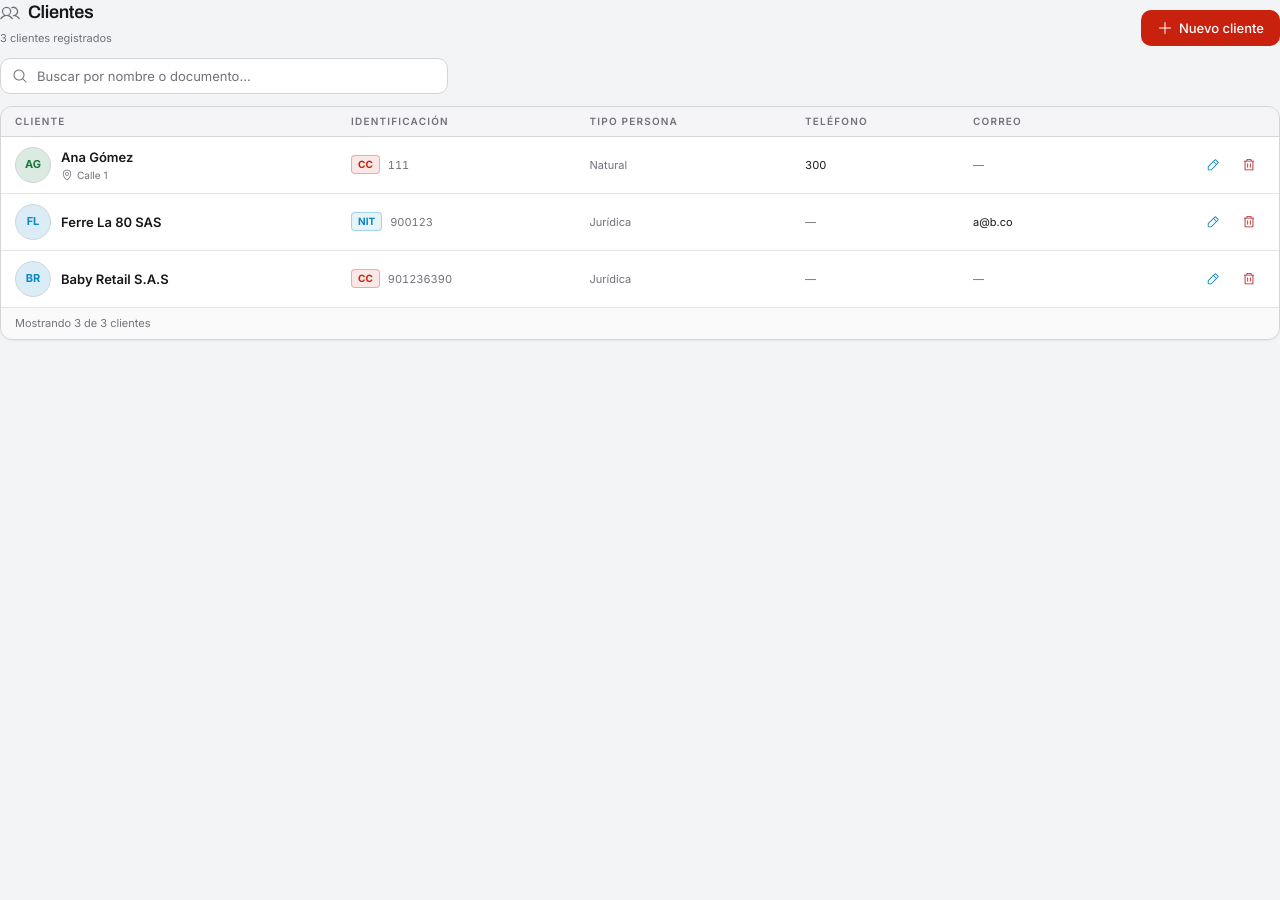
TabClientes — tipo de persona › al editar precarga el tipo de persona guardado
The width and height of the screenshot is (1280, 900).
Check: the text "Baby Retail S.A.S" is shown, box [61,270,169,288]
Click the button titled "Editar cliente" in the row of "BR": click(1213, 279) [1197,263,1229,295]
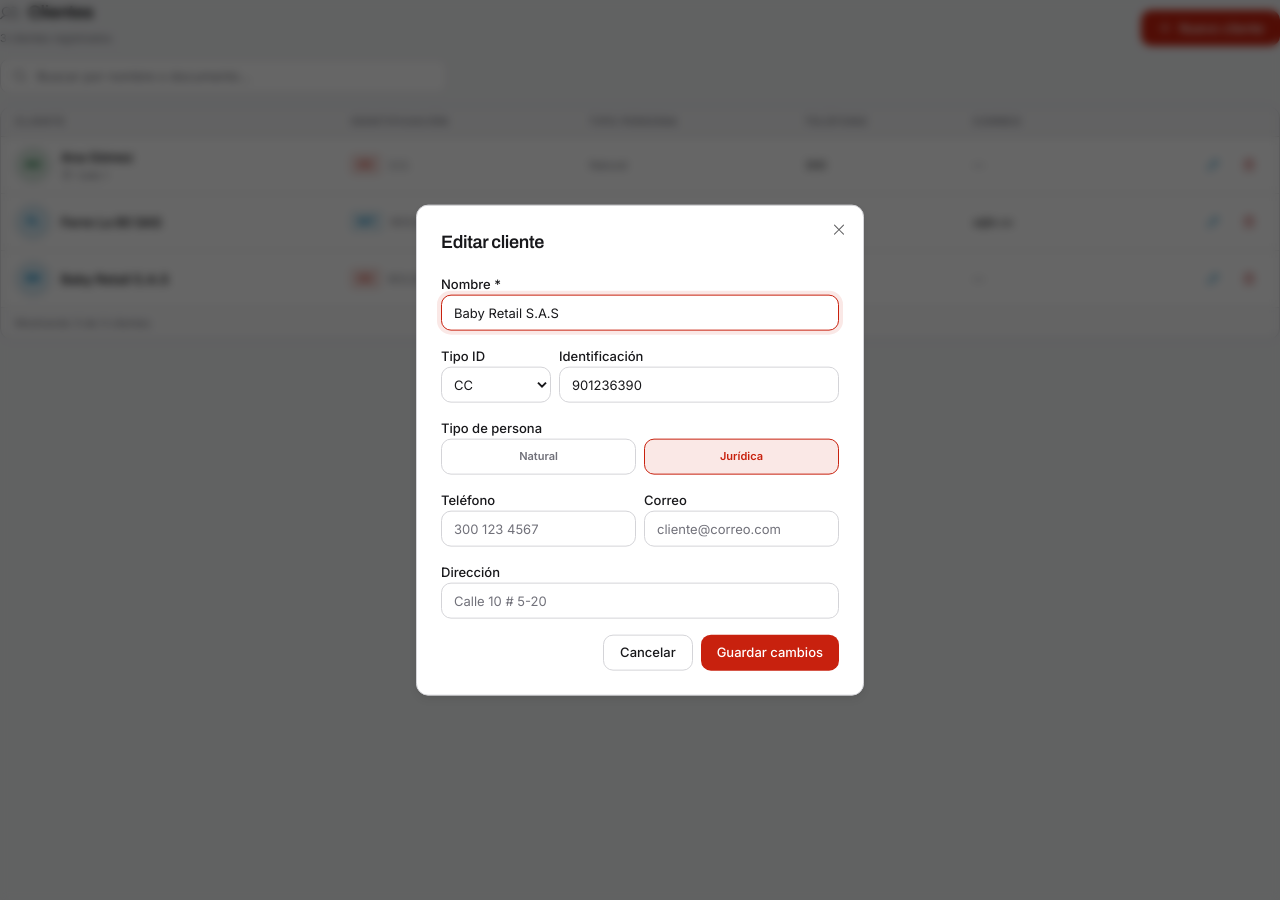
Check: the field labelled "Nombre" is shown, box [441,294,839,330]
